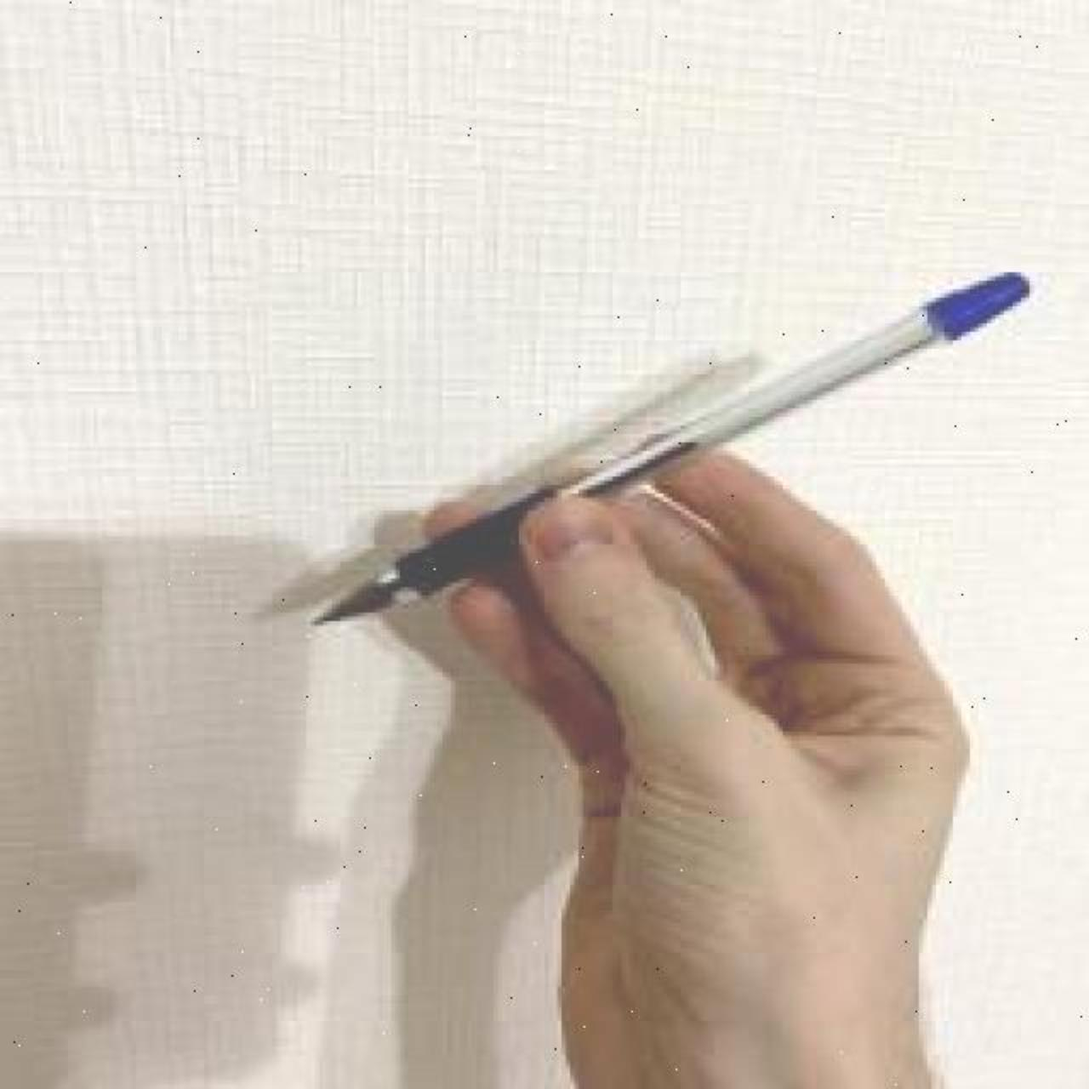pen: (305, 264, 1033, 630)
